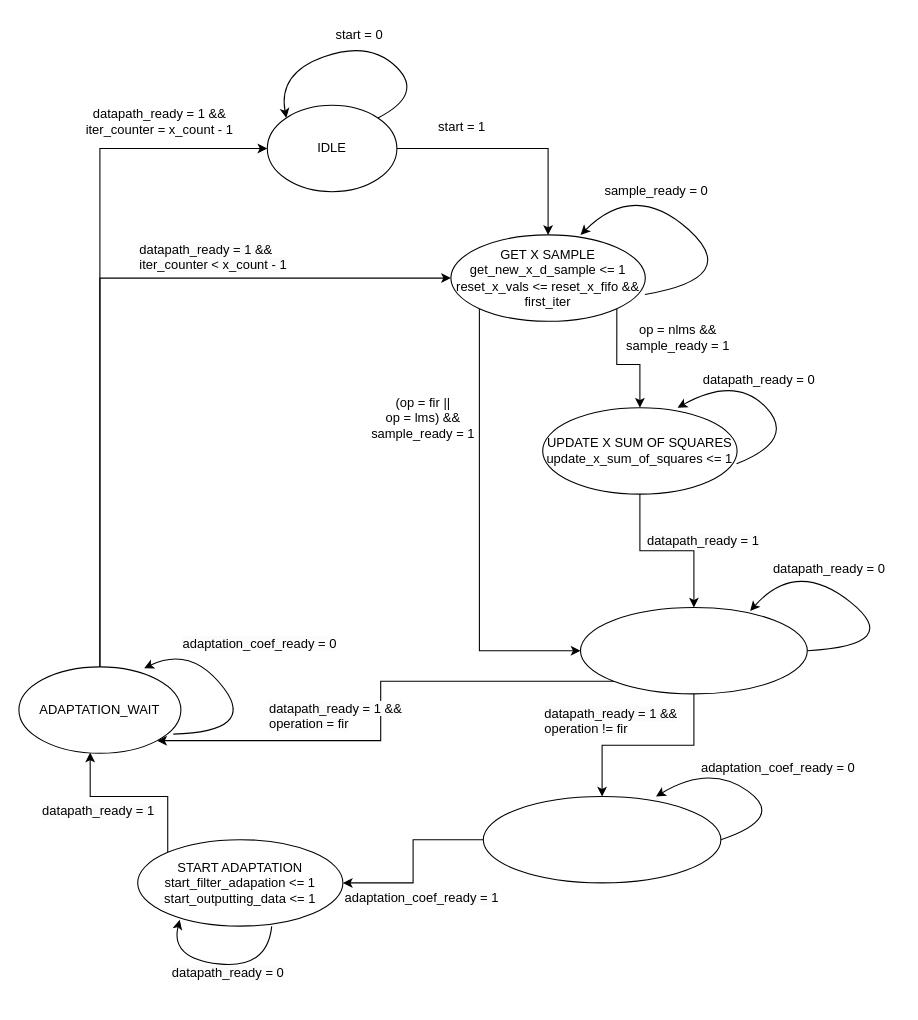
The diagram is 918 pixels wide and 1020 high, and some of its shapes have lost their labels. The centre of each missing label's shape, as x and y in pixels:
"CALCULATE ADAPTATION COEF calculate_adaptation_coef <= 1" belongs at [601,839].
"START FIR FILTRATION start_fir_filtration <= 1 start_outputting_data <= 1" belongs at [693,650].
